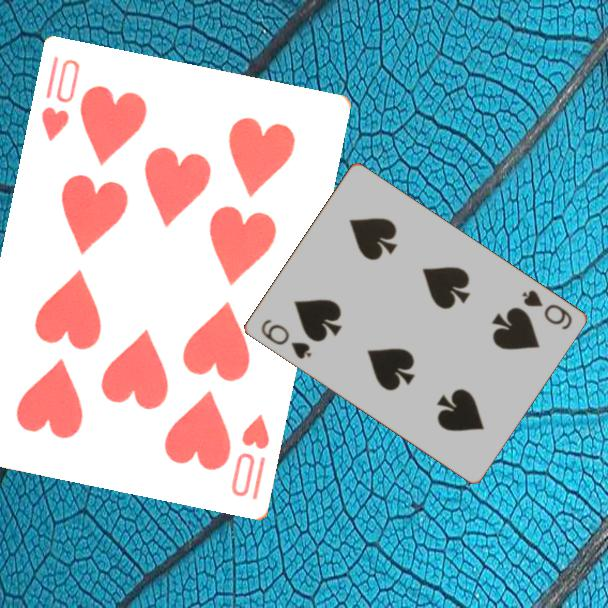h10: (228, 411, 273, 504), (38, 53, 83, 145)
s06: (518, 286, 575, 333), (257, 316, 314, 362)
